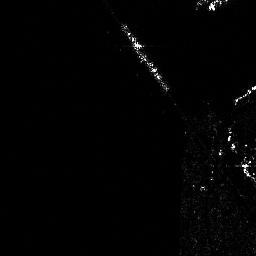ship: (119, 22, 171, 95)
